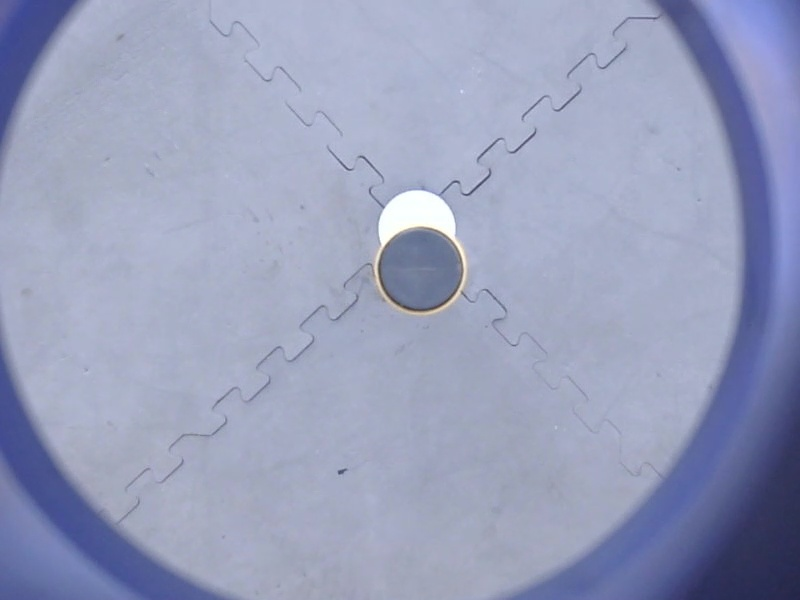tip: (370, 221, 470, 321)
